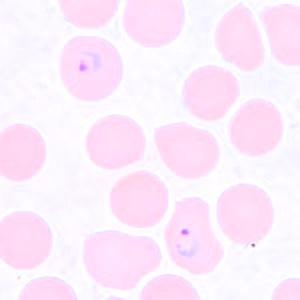Infected: (163, 196, 225, 276), (59, 36, 123, 100)
Uninfected: (84, 230, 162, 290), (153, 122, 220, 180), (216, 183, 275, 246), (108, 170, 170, 229), (85, 112, 145, 171), (215, 3, 264, 72), (228, 97, 284, 156), (183, 63, 239, 121), (122, 0, 185, 51), (0, 211, 52, 272), (0, 124, 46, 181), (259, 3, 300, 66)
